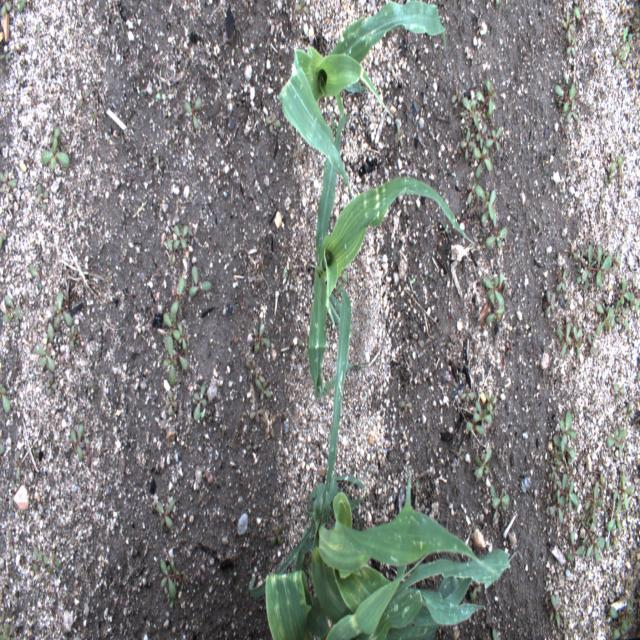crop: (248, 284, 511, 640), (308, 112, 475, 398), (278, 1, 446, 200)
weed: (574, 244, 612, 291), (40, 138, 70, 170), (582, 521, 604, 560), (610, 600, 632, 639), (605, 426, 627, 461), (53, 290, 72, 330), (486, 212, 507, 248), (482, 272, 503, 308), (160, 558, 177, 601), (473, 141, 492, 179), (461, 96, 481, 132), (554, 322, 574, 358), (560, 410, 576, 453), (473, 400, 492, 436), (474, 186, 494, 220), (584, 484, 601, 524), (189, 266, 211, 296), (554, 84, 576, 114), (614, 474, 632, 510), (473, 446, 492, 480), (69, 422, 85, 461), (164, 337, 177, 385), (34, 343, 56, 371), (596, 302, 614, 336), (254, 322, 271, 356), (184, 97, 202, 129), (170, 277, 184, 316), (549, 490, 566, 522), (156, 500, 174, 529), (554, 434, 575, 458), (606, 500, 622, 531), (163, 310, 180, 339), (482, 190, 496, 225), (169, 558, 184, 590), (460, 131, 476, 161), (193, 384, 206, 420), (466, 408, 484, 434), (5, 295, 19, 326), (297, 331, 313, 358), (566, 480, 579, 513), (0, 168, 17, 193), (549, 594, 561, 628), (562, 10, 574, 44), (486, 127, 502, 152), (486, 78, 496, 118), (44, 553, 62, 575), (35, 183, 49, 211), (173, 224, 188, 250), (621, 276, 634, 306), (608, 250, 622, 277), (493, 487, 509, 510), (270, 521, 283, 549), (170, 349, 188, 369), (255, 378, 271, 400), (265, 112, 281, 133), (44, 372, 57, 397), (616, 304, 629, 329), (489, 484, 498, 520), (549, 465, 561, 492), (612, 45, 626, 68), (565, 545, 585, 561), (48, 126, 60, 152), (250, 402, 264, 424), (2, 305, 21, 321), (0, 384, 10, 414), (165, 391, 177, 416), (33, 545, 46, 568), (566, 100, 579, 123), (476, 123, 487, 150), (573, 325, 582, 358), (596, 470, 606, 499), (486, 307, 503, 324), (612, 382, 625, 404), (484, 390, 494, 418), (476, 91, 492, 108), (13, 450, 22, 480), (462, 100, 477, 118), (611, 298, 620, 328), (173, 100, 185, 122), (470, 580, 482, 602), (0, 624, 16, 640), (623, 28, 633, 53), (574, 4, 584, 29), (294, 0, 309, 16), (556, 268, 566, 292), (606, 530, 618, 550), (167, 238, 176, 264), (622, 404, 634, 423), (78, 89, 90, 108), (546, 290, 555, 315), (178, 323, 186, 351), (550, 448, 564, 464), (587, 332, 596, 356), (294, 141, 303, 165), (396, 120, 404, 147), (630, 274, 636, 310), (154, 154, 164, 175), (566, 35, 576, 56), (461, 386, 474, 402), (187, 229, 199, 246), (33, 550, 42, 572), (44, 322, 53, 344), (467, 182, 476, 204), (562, 617, 571, 639), (8, 530, 15, 558), (0, 0, 12, 16), (610, 156, 622, 172), (452, 87, 462, 106), (616, 164, 625, 185), (68, 324, 75, 350), (570, 530, 576, 560), (246, 360, 257, 376), (36, 24, 43, 49), (10, 480, 16, 507), (456, 444, 463, 467), (338, 272, 348, 288), (0, 52, 12, 65), (560, 473, 567, 495), (577, 512, 586, 529), (20, 447, 28, 466), (16, 0, 26, 14), (0, 231, 7, 250), (28, 264, 39, 276), (398, 400, 412, 409), (492, 627, 501, 639), (180, 573, 186, 591), (0, 612, 4, 634), (156, 92, 166, 100), (586, 512, 591, 527), (600, 449, 604, 466), (0, 442, 5, 455), (282, 265, 286, 281), (495, 0, 501, 9), (636, 299, 639, 313), (638, 370, 640, 379)
